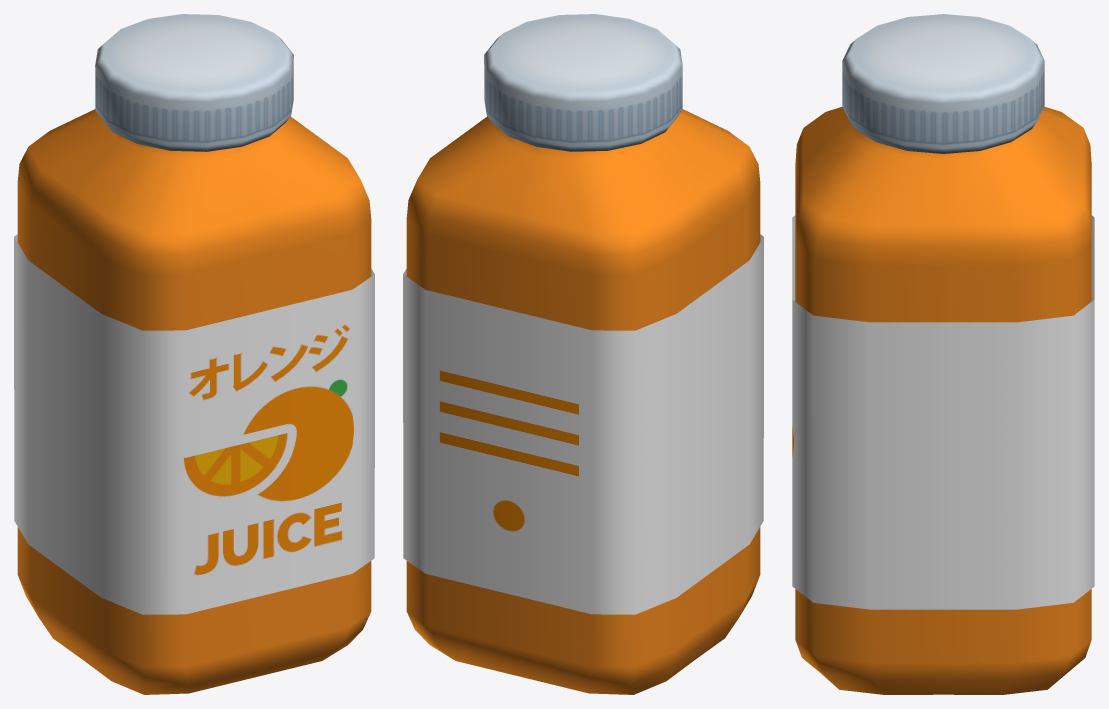
Rendered from Jucie_Bottle_00_Orange.fbx.
3 views of the same model, side by side, from view 1: azimuth 30°, elevation 25°; view 2: azimuth 150°, elevation 25°; view 3: azimuth 270°, elevation 25° (orthographic).
Parts seen in each view (by area): view 1: Jucie_Bottle_00_Orange; view 2: Jucie_Bottle_00_Orange; view 3: Jucie_Bottle_00_Orange.
Boxes of the visible parts, left/top/right/bottom form: Jucie_Bottle_00_Orange: left=14, top=14, right=374, bottom=694; Jucie_Bottle_00_Orange: left=403, top=14, right=763, bottom=694; Jucie_Bottle_00_Orange: left=792, top=14, right=1094, bottom=694.
Size of the model in its own units: 2.85 by 6.08 by 2.84.
